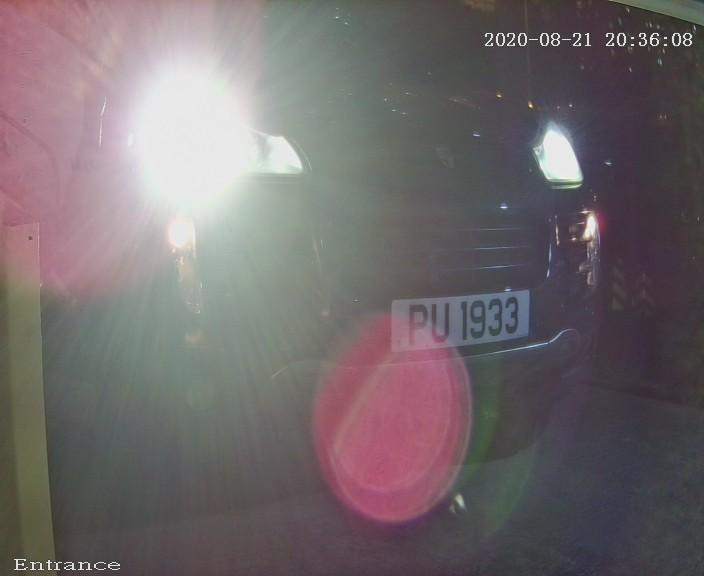Car: (10, 26, 679, 515)
License Plate: (364, 258, 551, 395)
